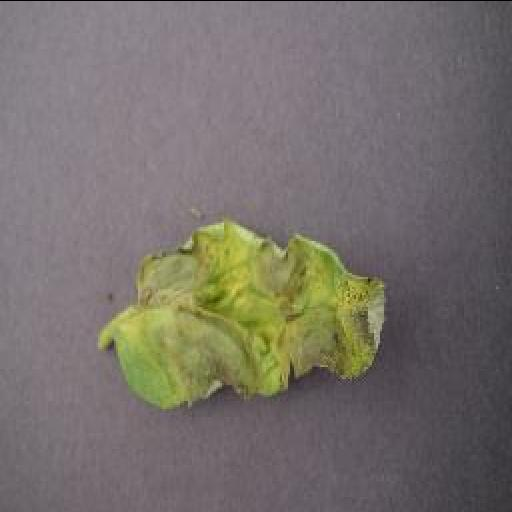disease_tomato: (112, 218, 390, 414)
